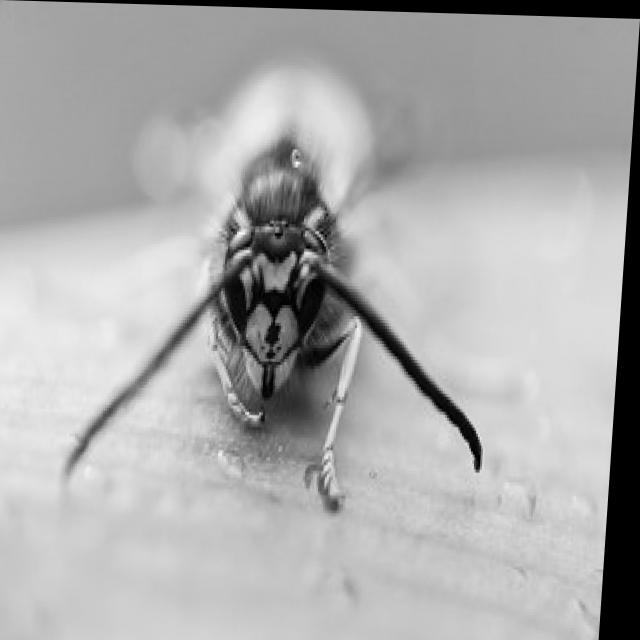Guepe: (40, 45, 557, 559)
